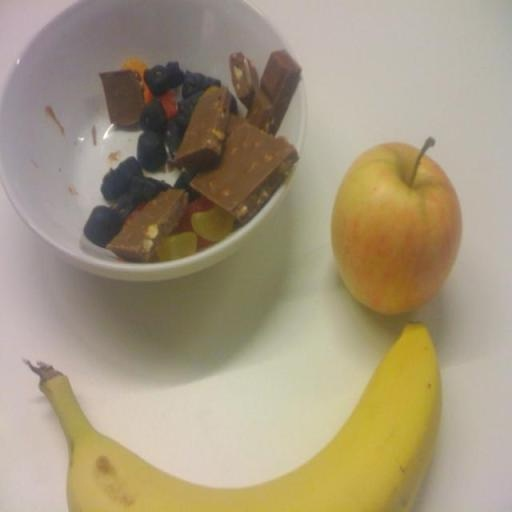fruit: (29, 324, 440, 511), (331, 140, 460, 314)
